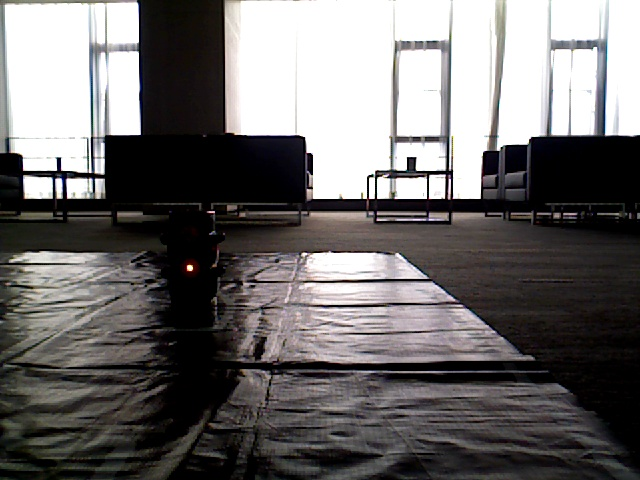yellow: (172, 212, 210, 301)
